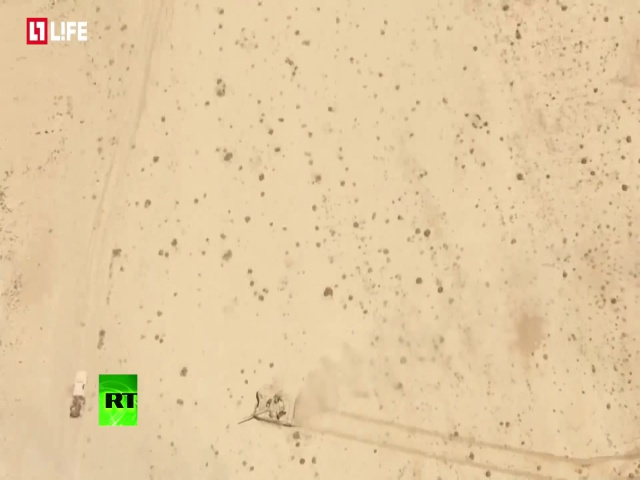vehicle: (234, 389, 303, 430), (68, 370, 90, 420)
